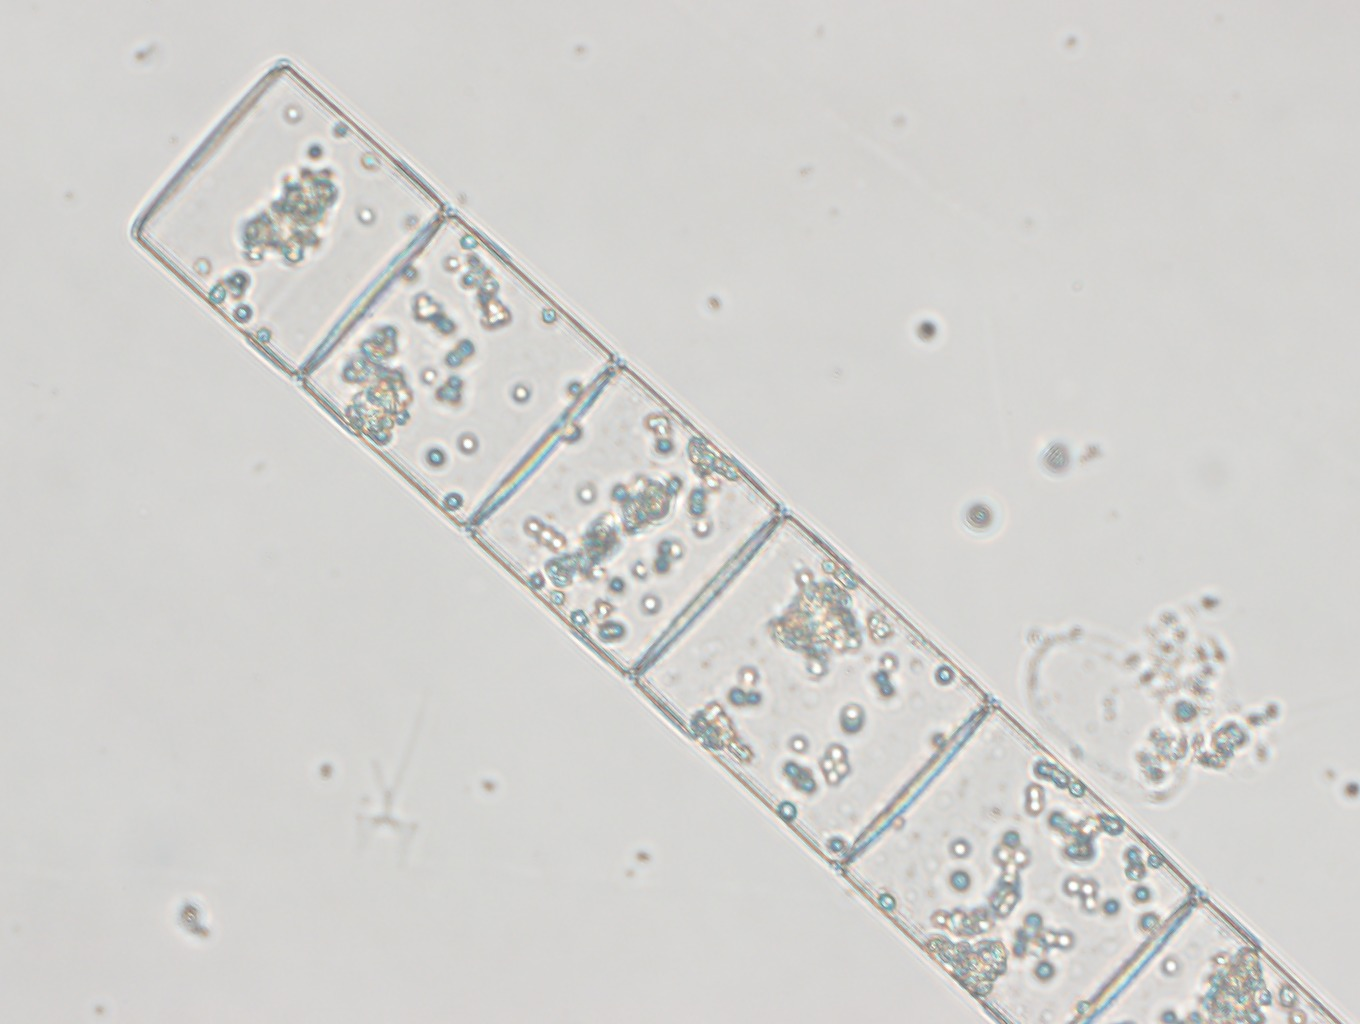guinardia flaccida: (129, 56, 1342, 1024)
